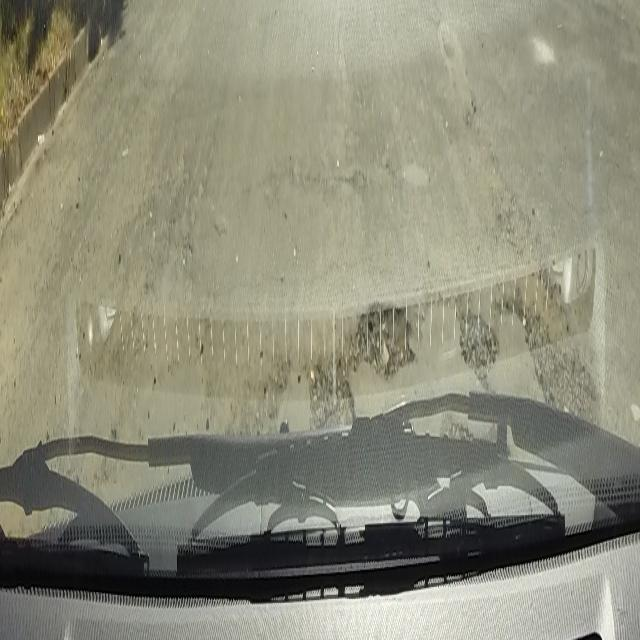pothole: (512, 247, 598, 422), (302, 352, 358, 439), (355, 298, 417, 374), (454, 295, 499, 364)
